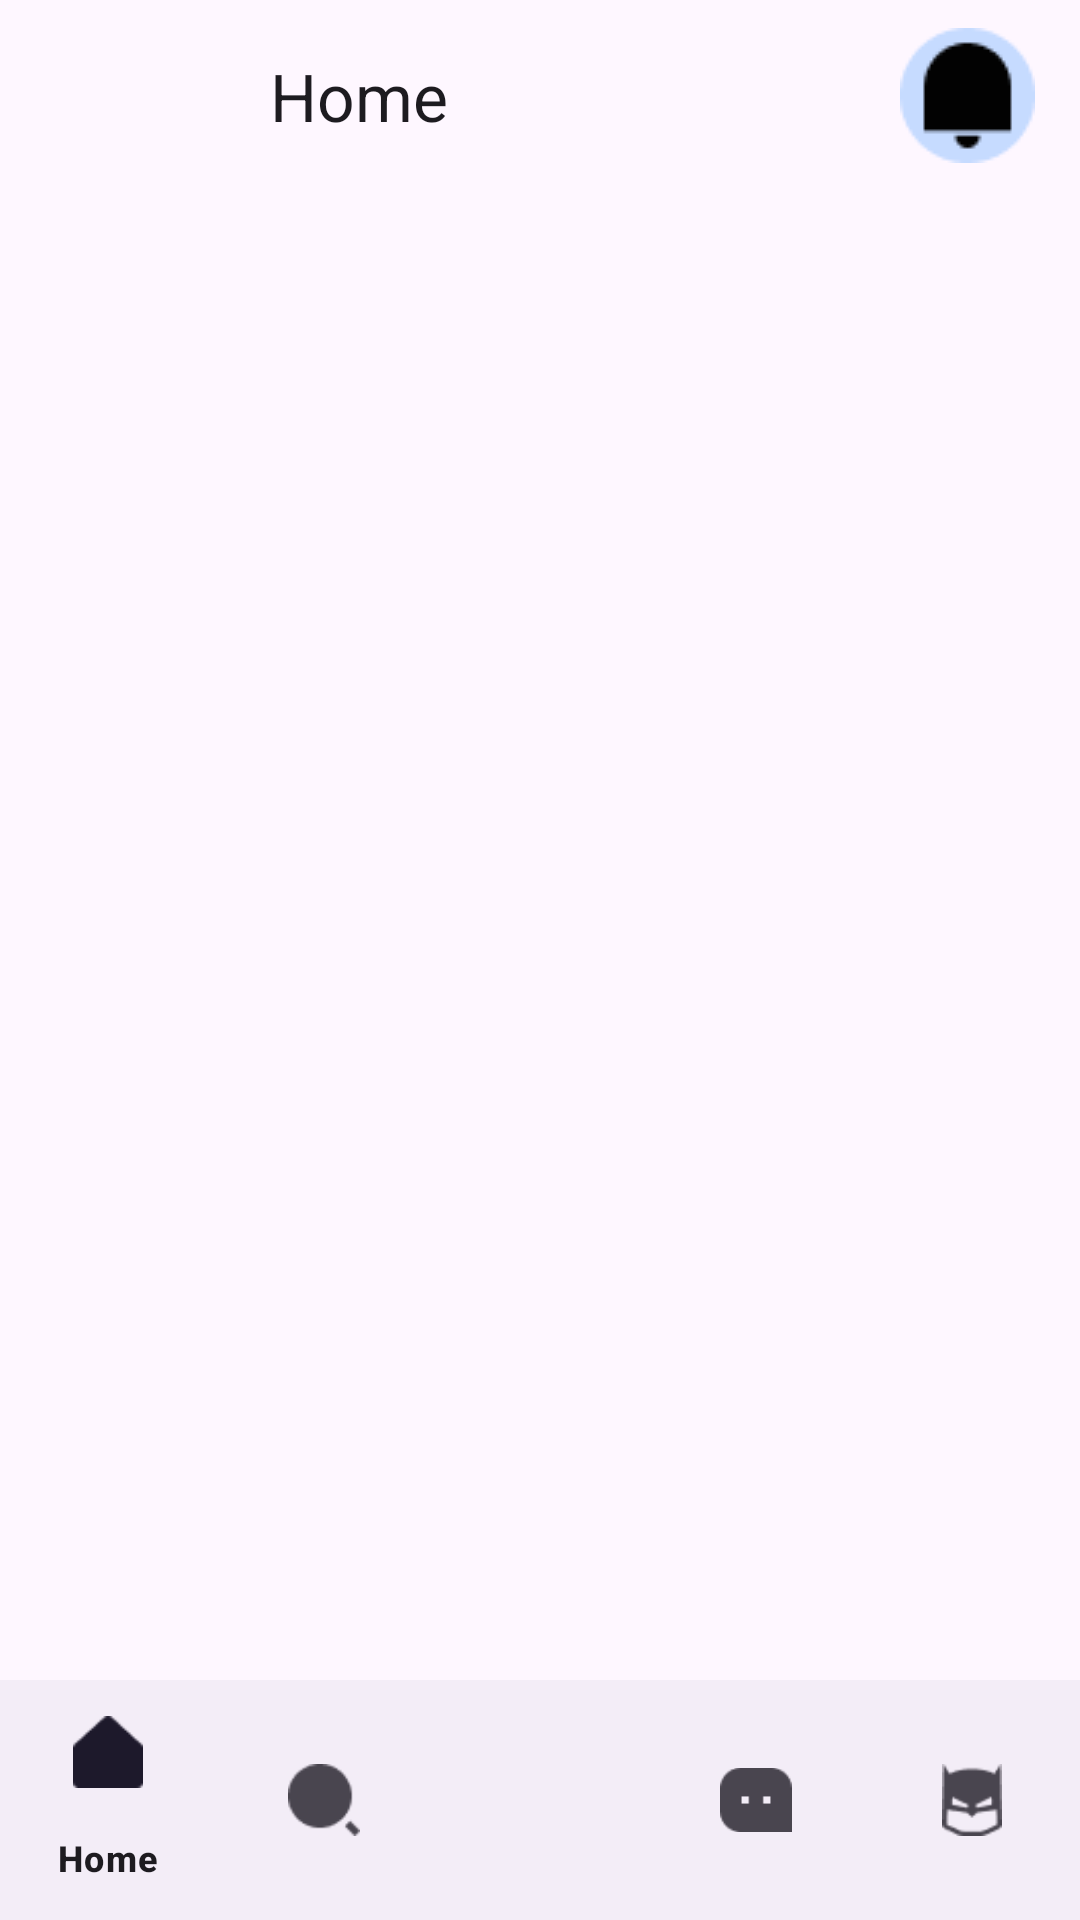

Icon bounding boxes for this 1080x1920 phone screenshot, format [left=x1, top=y1, right=x2, bottom=y2]:
Notification Buttion: [left=900, top=28, right=1035, bottom=163]
